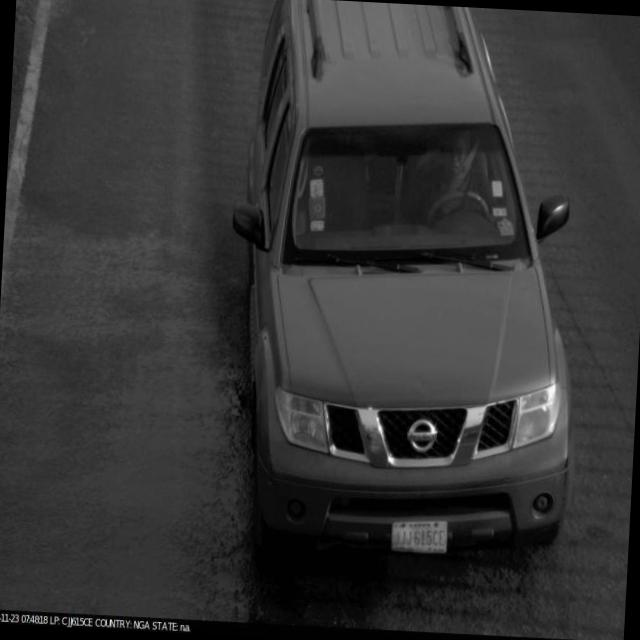person_with_seatbelt: (397, 128, 507, 258)
